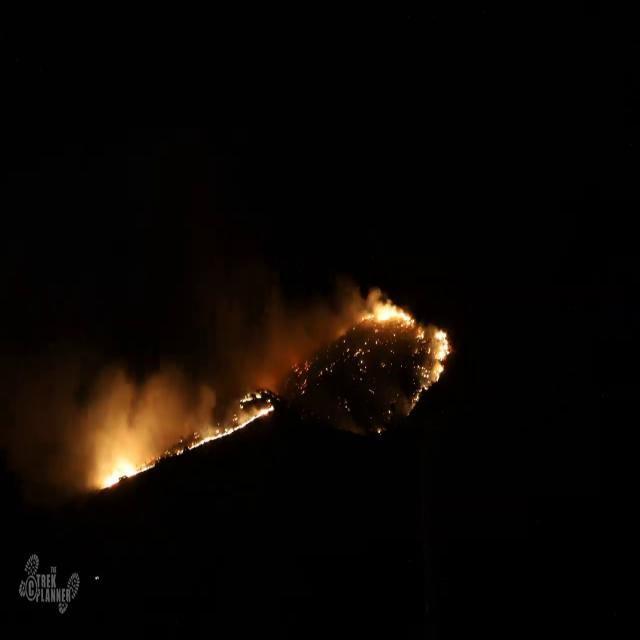fire: (189, 413, 273, 450), (94, 464, 152, 495)
smoke: (22, 338, 122, 424)
